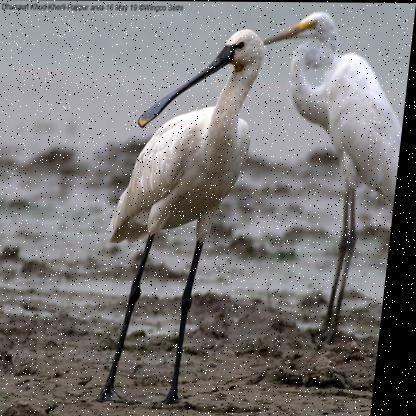Burung: (96, 30, 269, 407), (238, 10, 415, 342)
